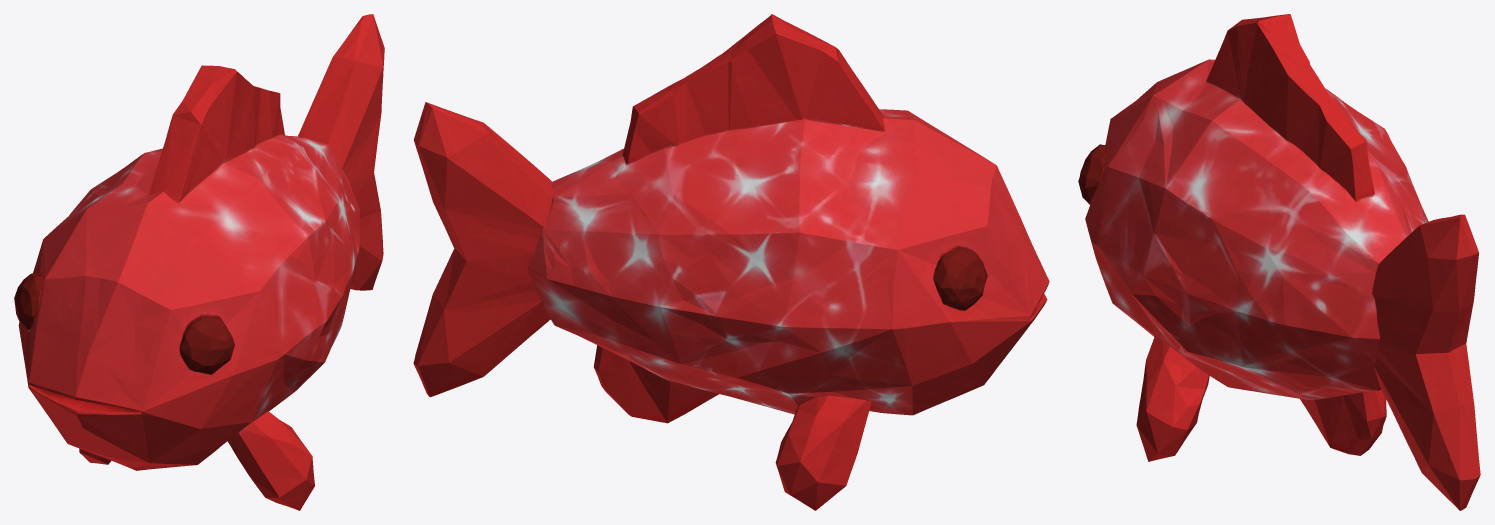
Rendered from fish_rare.glb.
The picture shows the model from 3 angles, left to right: view 1: azimuth 30°, elevation 25°; view 2: azimuth 150°, elevation 25°; view 3: azimuth 270°, elevation 25°; orthographic projection. The views are drawn at different scales.
Visible parts, largest first — view 1: tripo_node_93b6409d-e260-4038-aa5b-7b7bad5d21ff; view 2: tripo_node_93b6409d-e260-4038-aa5b-7b7bad5d21ff; view 3: tripo_node_93b6409d-e260-4038-aa5b-7b7bad5d21ff.
Part boxes in pixels (x1,y1,x2,y2): tripo_node_93b6409d-e260-4038-aa5b-7b7bad5d21ff: (14, 14, 384, 510); tripo_node_93b6409d-e260-4038-aa5b-7b7bad5d21ff: (413, 14, 1049, 510); tripo_node_93b6409d-e260-4038-aa5b-7b7bad5d21ff: (1078, 14, 1480, 510).
Bounding box in the file's own units: 0.9801 × 0.8171 × 0.6833.
1 material, 1 textured.
